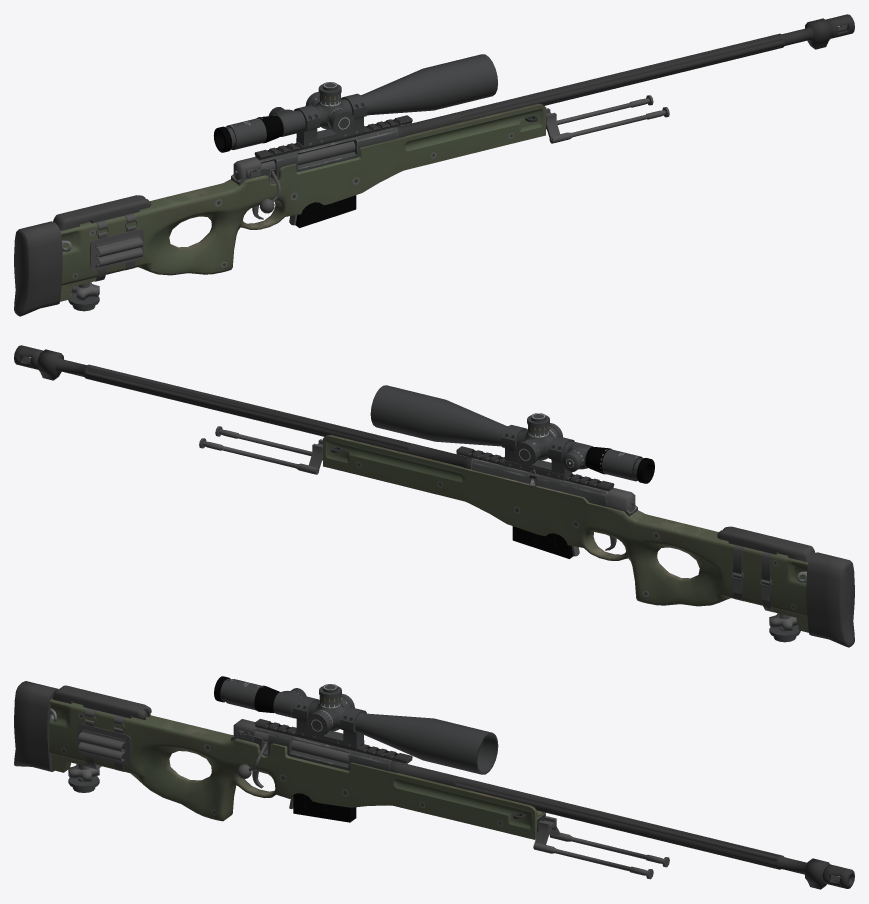
File: awm.glb
The picture shows the model from 3 angles, top to bottom: view 1: azimuth 30°, elevation 25°; view 2: azimuth 150°, elevation 25°; view 3: azimuth 330°, elevation 25°; orthographic projection.
Visible parts, largest first — view 1: L96A1_Body, L96A1_Scope, L96A1_BulletBage, L96A1_Bolt_Handle, L96A1_Magazine, L96A1_Tripod_Right, L96A1_Tripod_Left; view 2: L96A1_Body, L96A1_Scope, L96A1_BulletBage, L96A1_Magazine, L96A1_Tripod_Left, L96A1_Tripod_Right; view 3: L96A1_Body, L96A1_Scope, L96A1_BulletBage, L96A1_Magazine, L96A1_Bolt_Handle, L96A1_Tripod_Right, L96A1_Tripod_Left, L96A1_Tripod.
Part boxes in pixels (x1,y1,x2,y2): L96A1_Body: (14,14,854,316); L96A1_Scope: (213,54,497,152); L96A1_BulletBage: (90,213,143,281); L96A1_Bolt_Handle: (259,141,355,213); L96A1_Magazine: (295,195,356,227); L96A1_Tripod_Right: (549,107,669,143); L96A1_Tripod_Left: (546,95,653,129); L96A1_Body: (14,345,854,647); L96A1_Scope: (370,385,654,488); L96A1_BulletBage: (731,545,773,612); L96A1_Magazine: (512,526,573,558); L96A1_Tripod_Left: (199,438,319,474); L96A1_Tripod_Right: (215,426,322,460); L96A1_Body: (14,681,854,889); L96A1_Scope: (214,676,498,774); L96A1_BulletBage: (77,708,131,771); L96A1_Magazine: (293,793,356,822); L96A1_Bolt_Handle: (237,730,348,778); L96A1_Tripod_Right: (533,842,653,879); L96A1_Tripod_Left: (549,832,669,867); L96A1_Tripod: (534,816,560,844).
Size of the model in its own units: 127 by 23.68 by 7.61.
9 materials, 2 textured.
